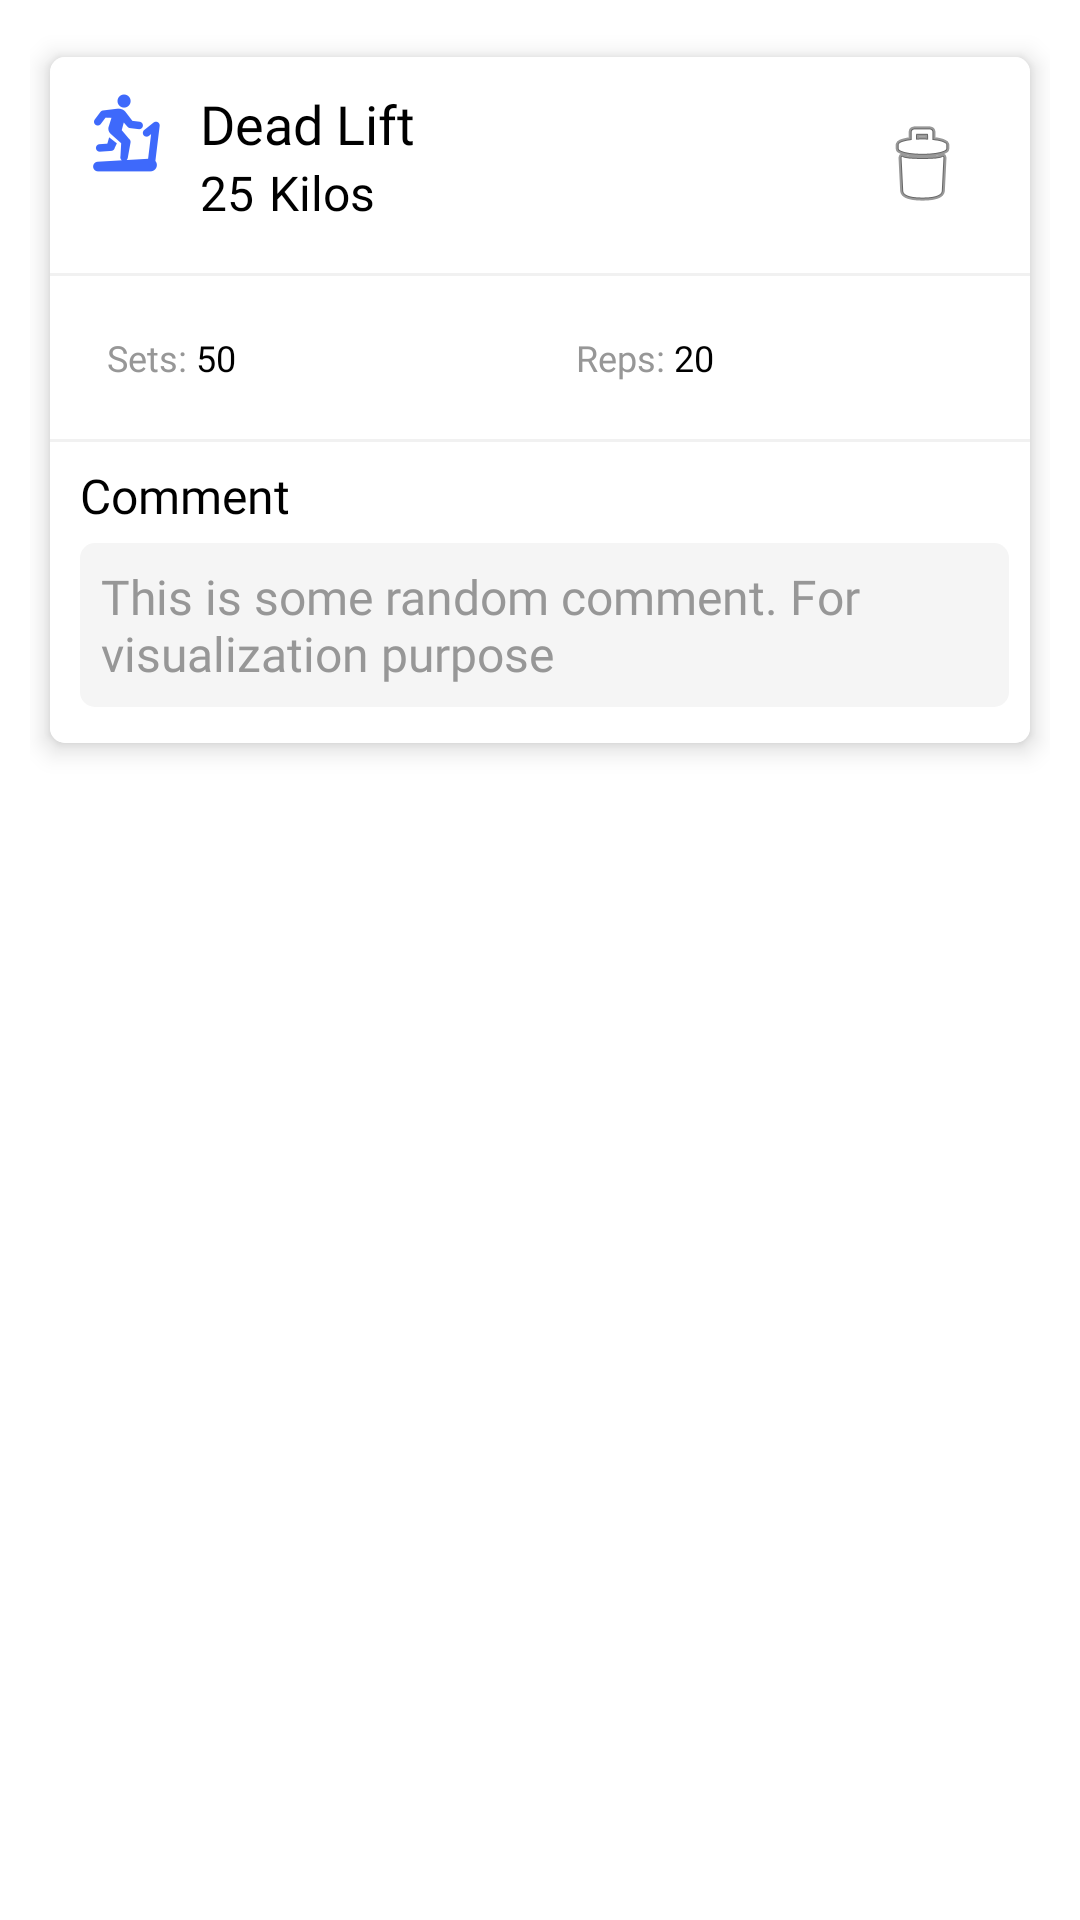

Named icons in this screenshot (1080w x 1920h) and their centers, [x,y]:
delete: [922,163]
